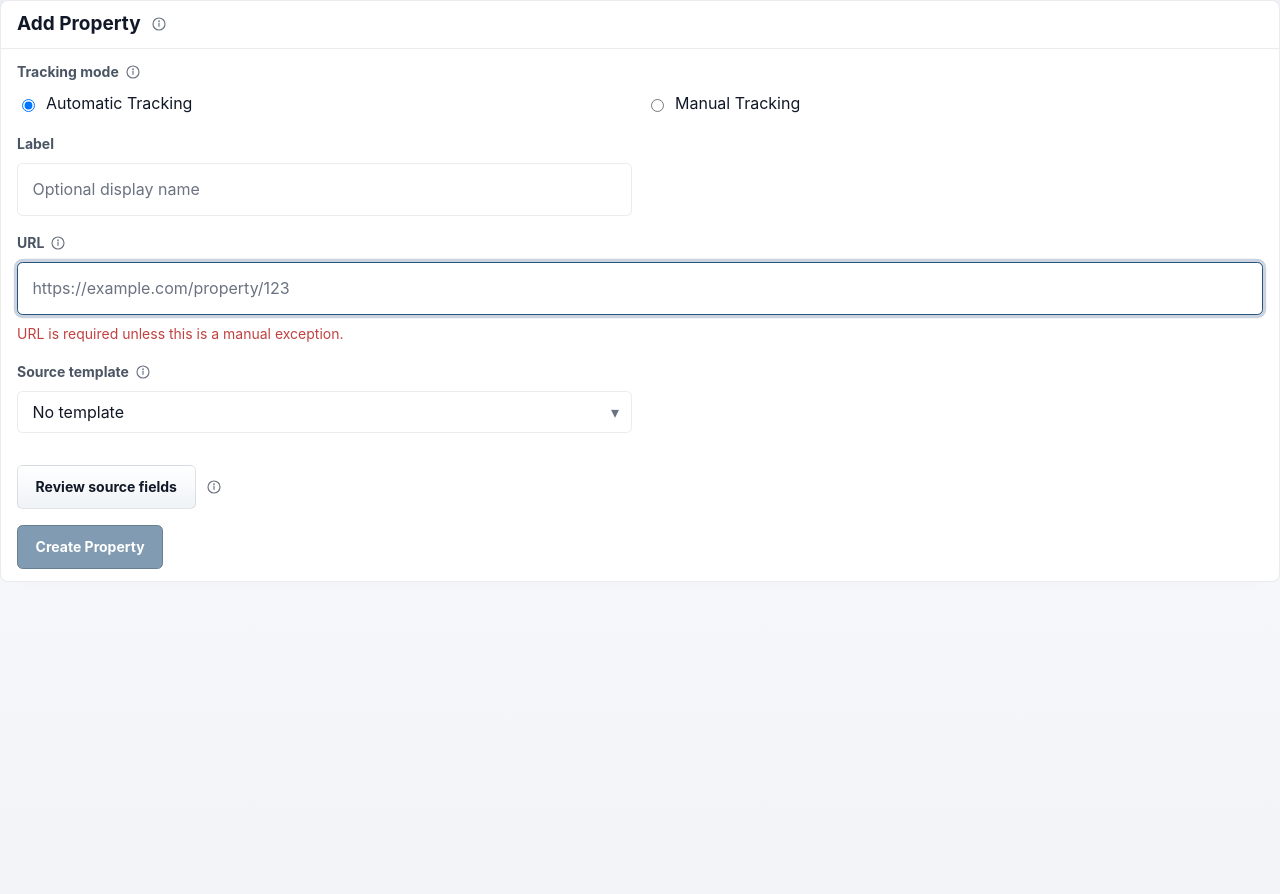
it: PropertyDetailPage › moves the create action below selector configuration when the price selector flow is enabled
Expected: the button "Create Property" is shown, 17,525 -> 163,569
What coordinates should you click on to do the following:
click the button "Review source fields"
I would click on:
 (106, 487)
Its box is 17,465 -> 196,509.
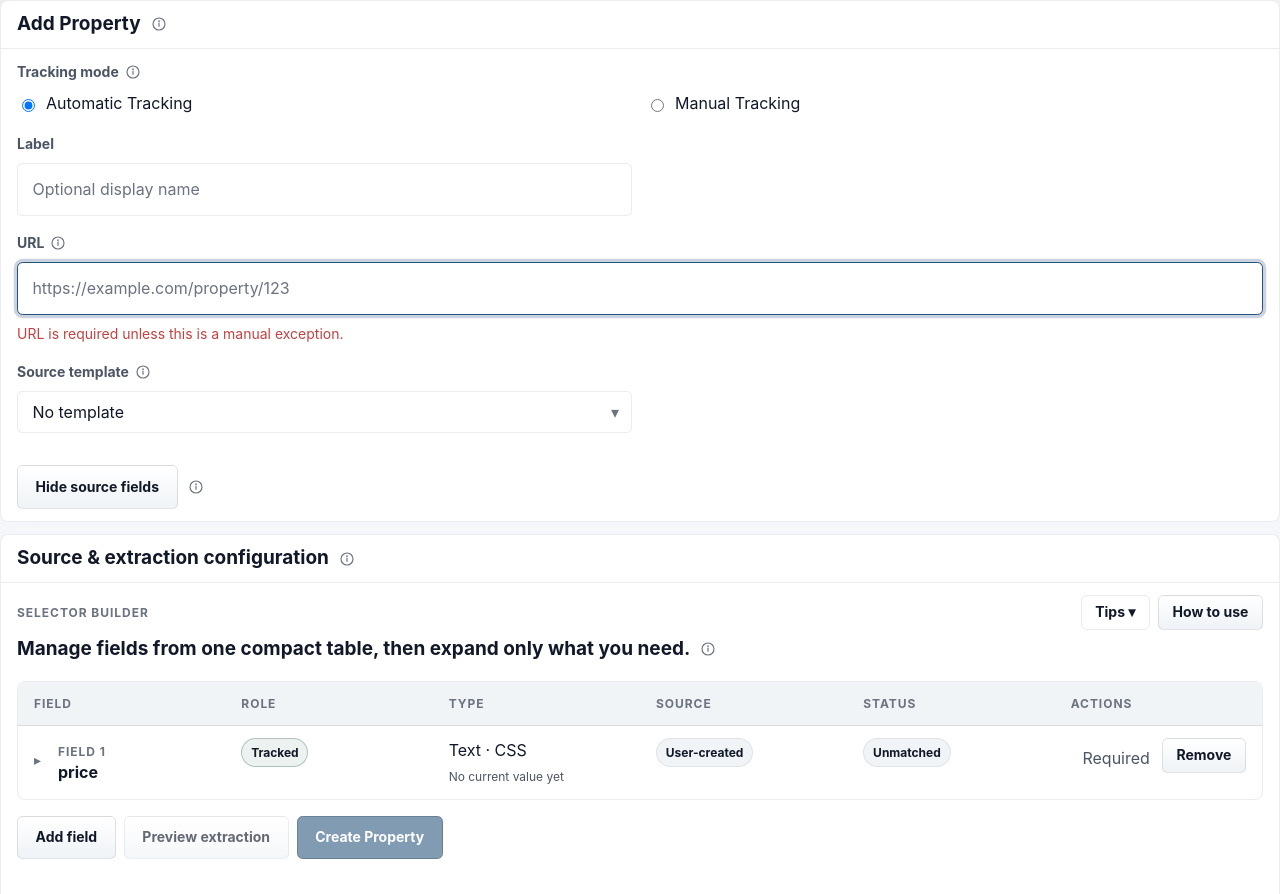
Expected: the button named "Show help for Source fields" is shown, 182,473 -> 210,501
Expected: the text "Source & extraction configuration" is shown, 17,546 -> 329,569
